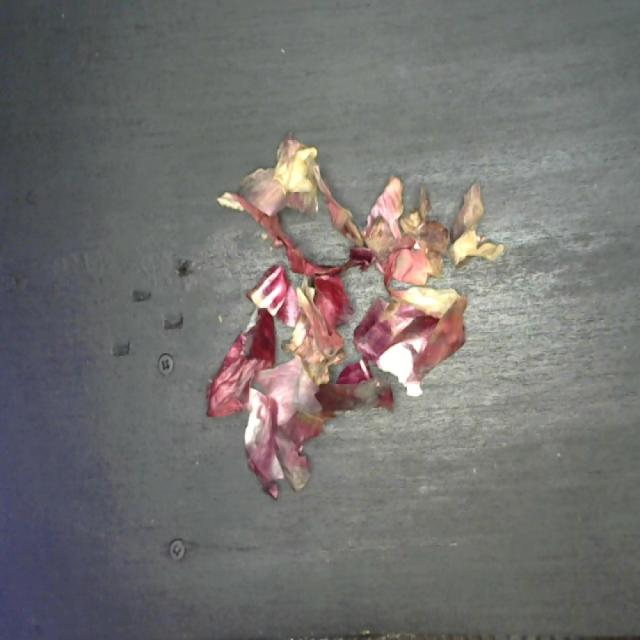biodegradable: (200, 133, 506, 502)
